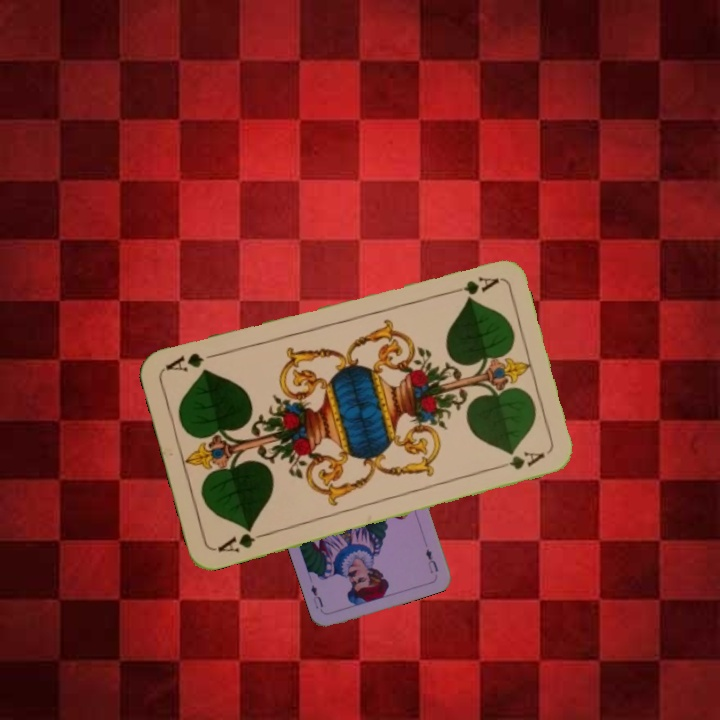EU: (422, 545, 441, 576)
GA: (213, 523, 270, 556), (442, 272, 501, 298)
